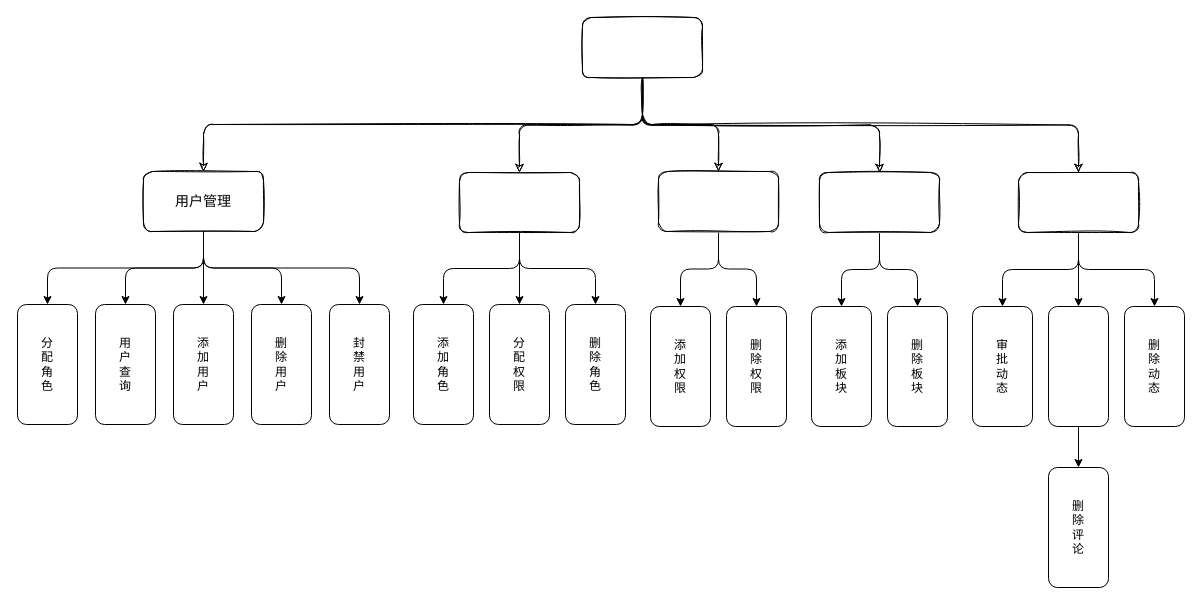
Some shapes in this 1202 by 605 pixel diagram are drawn without their labels. The centre of each missing label's shape, as x and y in pixels:
"动态管理" belongs at point 1078,202.
"权限管理" belongs at point 718,201.
"板块管理" belongs at point 879,202.
"管 理 评 论" belongs at point 1078,366.
"管理员" belongs at point 642,47.
"角色管理" belongs at point 519,202.
